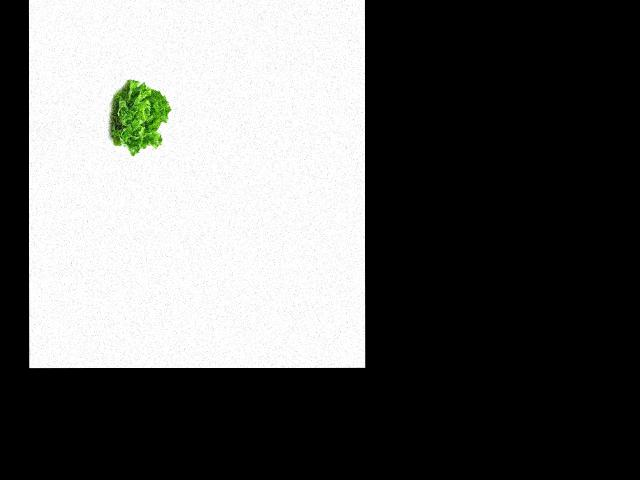lettuce: (108, 81, 170, 155)
